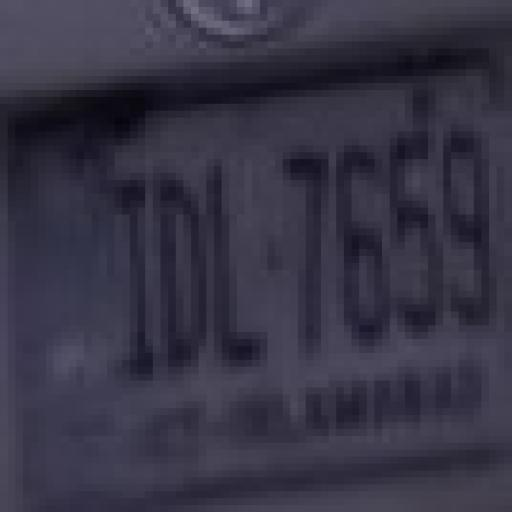5: (391, 138, 445, 340)
6: (332, 135, 381, 346)
7: (282, 154, 328, 355)
9: (442, 116, 497, 340)
D: (156, 164, 209, 384)
I: (107, 172, 157, 383)
L: (206, 151, 269, 376)
